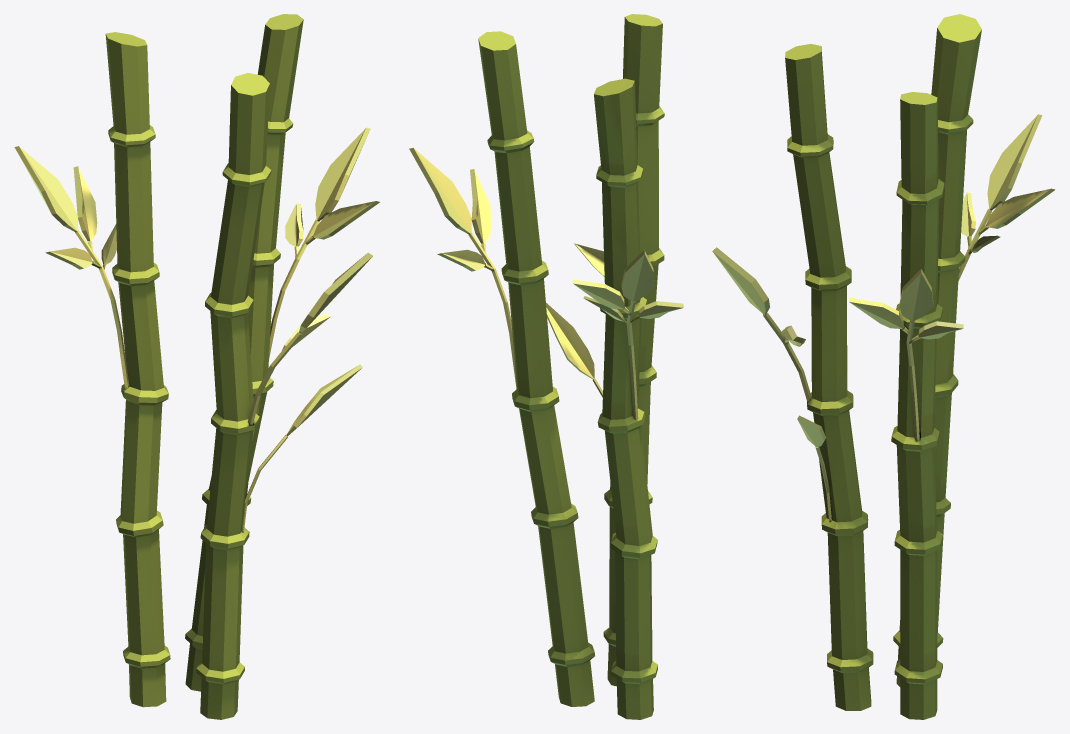
File: Bamboo.glb
3 views of the same model, side by side, from view 1: azimuth 30°, elevation 25°; view 2: azimuth 150°, elevation 25°; view 3: azimuth 270°, elevation 25° (orthographic). The views are drawn at different scales.
Visible parts, largest first — view 1: bamboo; view 2: bamboo; view 3: bamboo.
Boxes of the visible parts, box(x1,y1,x2,y2) form: bamboo: box(14, 14, 379, 719); bamboo: box(409, 14, 683, 719); bamboo: box(712, 14, 1055, 719).
Bounding box in the file's own units: 0.8979 × 1.85 × 0.873.
Materials: 1 (1 with a texture image).
